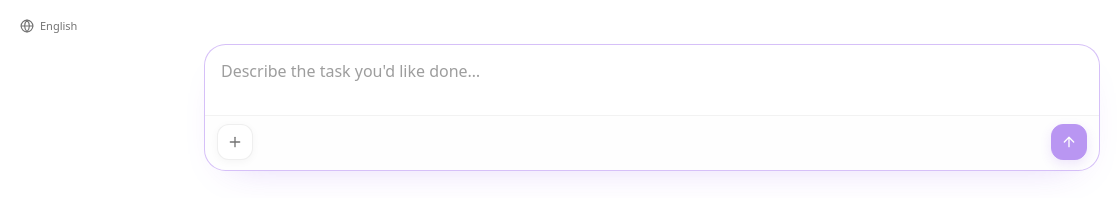
Test: webui i18n › switches UI copy and document locale through the language switcher
The width and height of the screenshot is (1117, 198).
Check: the text box with placeholder "Describe the task you'd like done…" is shown, box [205,45,1099,109]
Click the button with aria-label "Change language" at (49, 26), box [12,12,85,40]
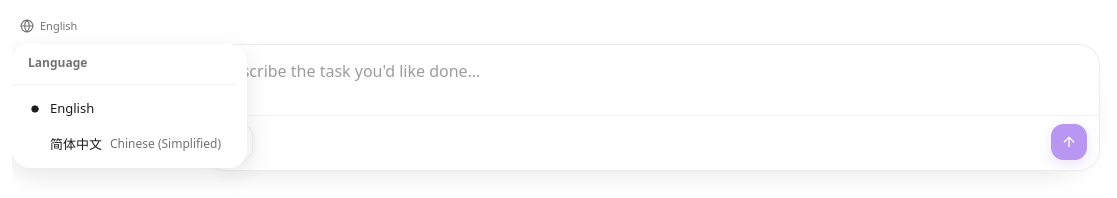
Click the menu item "简体中文 Chinese (Simplified)" at (136, 144), box [50,134,221,152]
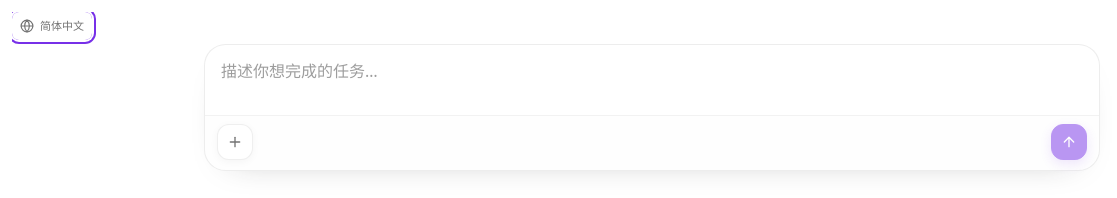
Check: the text box with placeholder "描述你想完成的任务…" is shown, box [205,45,1099,109]
